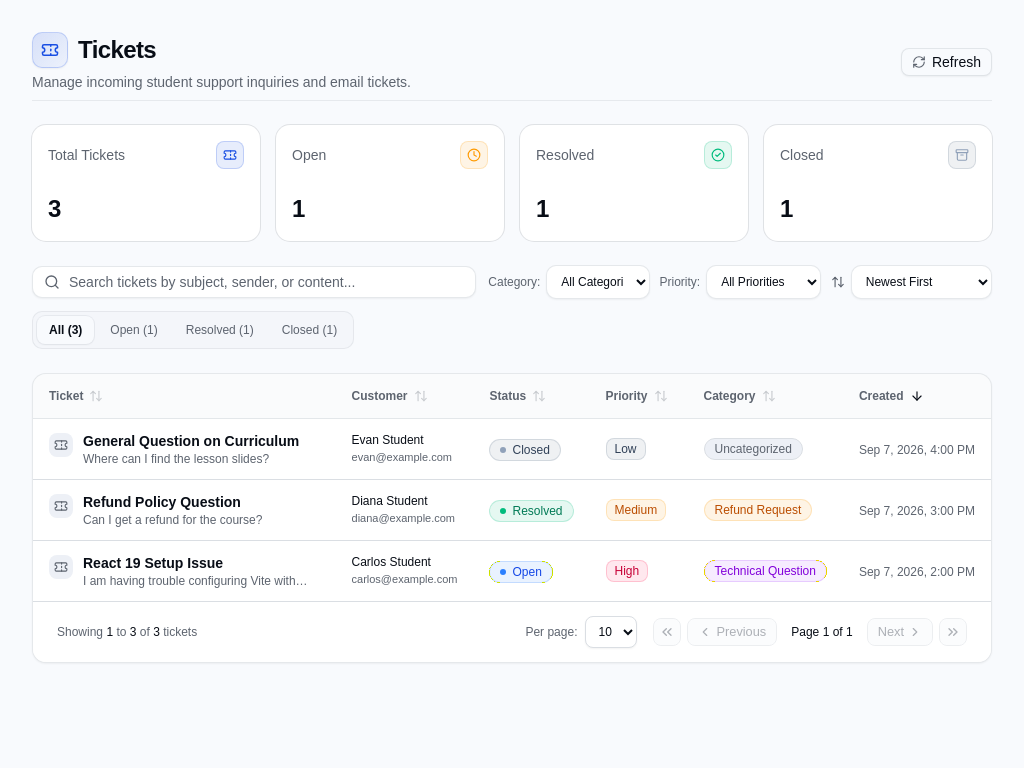
Test case: TicketsPage Component › filters tickets by search query across subject, sender, and content
Expected: the link "React 19 Setup Issue" is shown, [83,555,223,571]
Type "carlos" into the search field with test id "tickets-search-input".
click(254, 282); type("carlos")  # box [32,266,476,298]
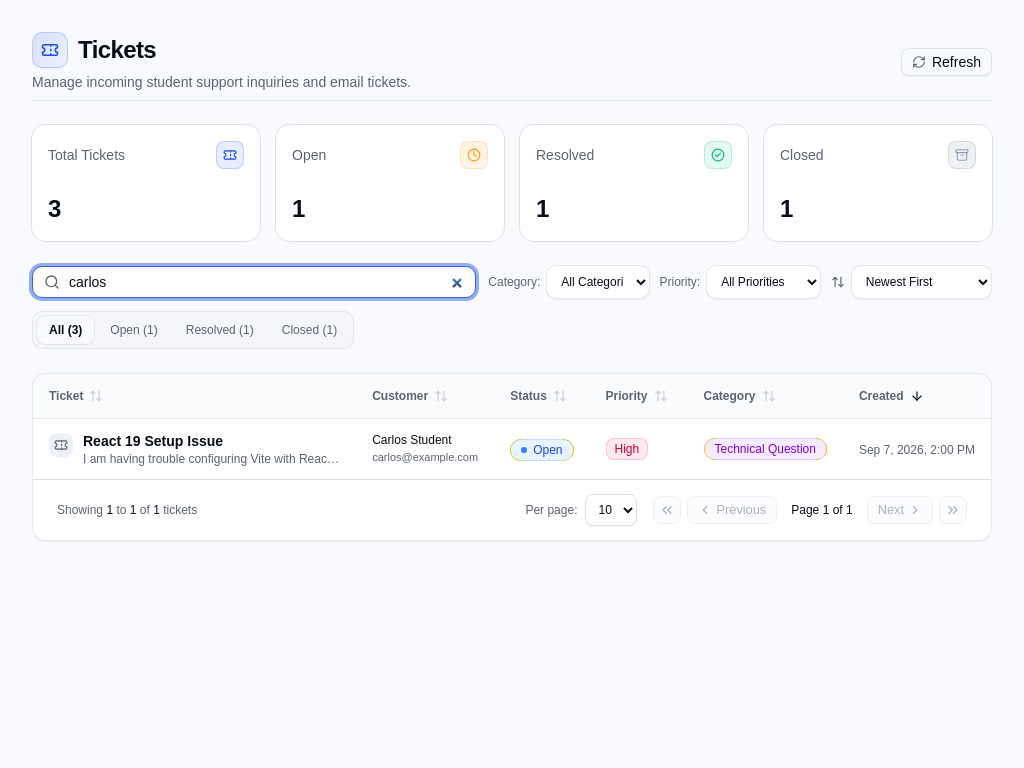
Expected: the link "React 19 Setup Issue" is shown, [83,433,223,449]
Now the link "Refund Policy Question" is gone
Now the link "General Question on Curriculum" is gone
